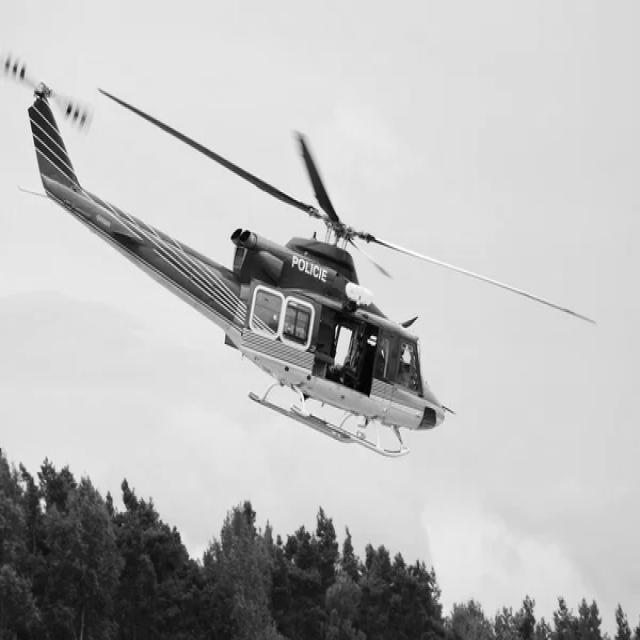Helicopter: (0, 56, 594, 458)
